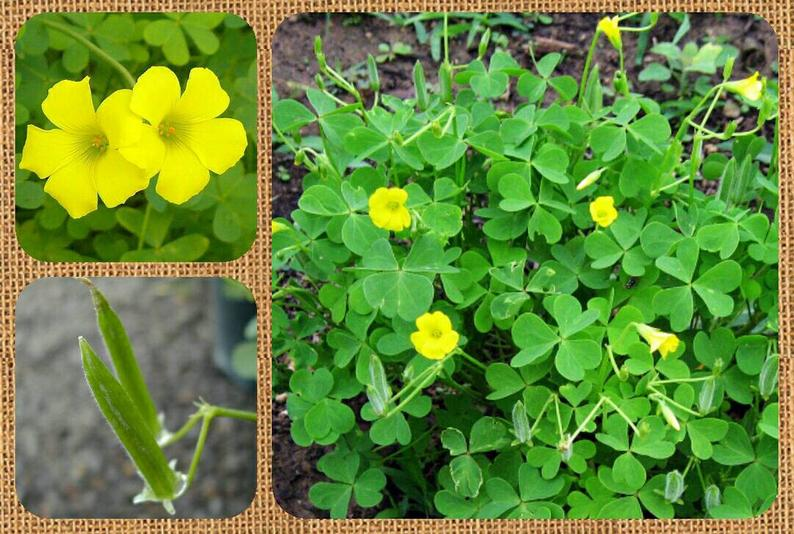oxalis: (293, 83, 791, 534)
